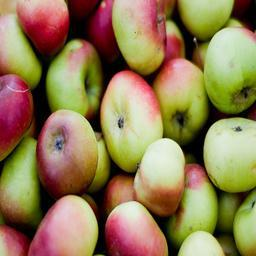apple: (98, 69, 163, 174), (35, 109, 98, 193), (151, 57, 209, 145), (43, 37, 102, 120), (202, 25, 256, 115), (166, 164, 218, 249), (131, 138, 186, 218), (29, 194, 99, 256), (110, 1, 166, 76), (202, 116, 256, 193), (1, 136, 43, 231), (102, 201, 169, 255), (1, 14, 41, 92), (14, 1, 70, 55), (1, 74, 33, 160)
